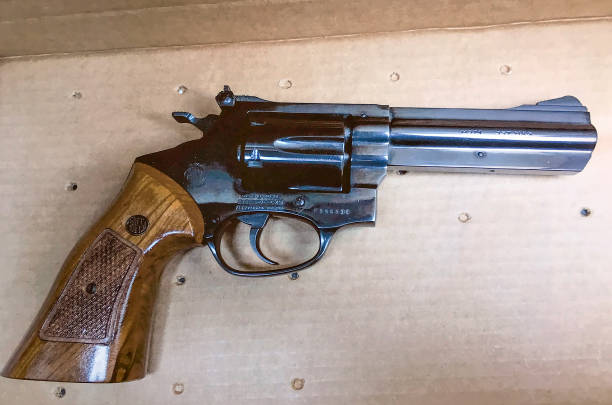pistol: (4, 67, 602, 387)
